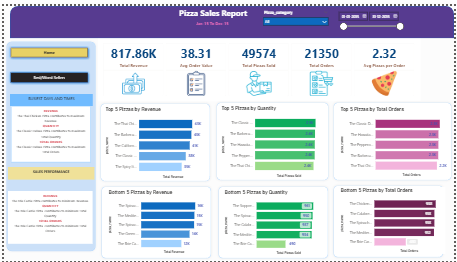

What the dashboard file says about the page in this screenshot:
{"tool":"powerbi","page":{"name":"Best/Worst Sellers","canvas":[1500,850],"ordinal":1},"visuals":[{"type":"cardVisual","fields":{"Data":["pizza_sales.Total Revenue","pizza_sales.Avg Order Value","pizza_sales.Total Pizzas Sold","pizza_sales.Total Orders","pizza_sales.Avg Pizzas per Order"]},"box":[314.8,107.4,1075.9,211.1],"z":0},{"type":"shape","box":[20,0,1480,107.5],"z":1000},{"type":"textbox","box":[559.3,0,274.1,66.7],"z":2000},{"type":"textbox","box":[590.7,44.4,209.3,44.4],"z":3000},{"type":"shape","box":[314,318,382,276],"z":4000},{"type":"shape","box":[0,110,314,716],"z":5000},{"type":"textbox","box":[24,334,266,188],"z":6000},{"type":"textbox","box":[20,294,276,40],"z":7000},{"type":"textbox","box":[14,538,288,42],"z":8000},{"type":"textbox","box":[14,616,282,176],"z":9000},{"type":"slicer","fields":{"Values":["pizza_sales.pizza_category"]},"box":[852,10,238,68],"z":10000},{"type":"slicer","fields":{"Values":["pizza_sales.order_date"]},"box":[1104,10,238,78],"z":11000},{"type":"shape","box":[700,314,390,276],"z":12000},{"type":"shape","box":[1090,314,410,276],"z":13000},{"type":"shape","box":[318,594,382,256],"z":14000},{"type":"shape","box":[708,594,382,256],"z":15000},{"type":"shape","box":[1090,590,382,256],"z":16000},{"type":"barChart","title":"Top 5 Pizzas by Revenue ","fields":{"Category":["pizza_sales.pizza_name"],"Y":["pizza_sales.Total Revenue"]},"box":[332,334,348,246],"z":17000},{"type":"barChart","title":"Bottom 5 Pizzas by Revenue ","fields":{"Category":["pizza_sales.pizza_name"],"Y":["pizza_sales.Total Revenue"]},"box":[342.5,611.2,337.5,221.2],"z":18000},{"type":"barChart","title":"Top 5 Pizzas by Quantity ","fields":{"Category":["pizza_sales.pizza_name"],"Y":["pizza_sales.Total Pizzas Sold"]},"box":[721.2,328.8,347.5,246.2],"z":19000},{"type":"barChart","title":"Bottom 5 Pizzas by Quantity ","fields":{"Category":["pizza_sales.pizza_name"],"Y":["pizza_sales.Total Pizzas Sold"]},"box":[730,608.8,330,223.8],"z":20000},{"type":"barChart","title":"Top 5 Pizzas by Total Orders ","fields":{"Category":["pizza_sales.pizza_name"],"Y":["pizza_sales.Total Orders"]},"box":[1115,333.8,366.2,241.2],"z":21000},{"type":"barChart","title":"Bottom 5 Pizzas by Total Orders","fields":{"Category":["pizza_sales.pizza_name"],"Y":["pizza_sales.Total Orders"]},"box":[1115,603.8,353.8,222.5],"z":22000},{"type":"pageNavigator","box":[14.3,131.4,275.7,50],"z":23000},{"type":"pageNavigator","box":[14.3,212.9,275.7,50],"z":24000}]}

Visuals, with their boxes in screenshot pixels (x1, y1, x2, y2), scaled from the page's 1500x850 canvas onto the 457x262 screenshot:
cardVisual - pizza_sales.Total Revenue x pizza_sales.Avg Order Value: [left=96, top=33, right=424, bottom=98]
shape: [left=6, top=0, right=456, bottom=33]
textbox: [left=170, top=0, right=254, bottom=21]
textbox: [left=180, top=14, right=244, bottom=27]
shape: [left=96, top=98, right=212, bottom=183]
shape: [left=0, top=34, right=96, bottom=255]
textbox: [left=7, top=103, right=88, bottom=161]
textbox: [left=6, top=91, right=90, bottom=103]
textbox: [left=4, top=166, right=92, bottom=179]
textbox: [left=4, top=190, right=90, bottom=244]
slicer - pizza_sales.pizza_category: [left=260, top=3, right=332, bottom=24]
slicer - pizza_sales.order_date: [left=336, top=3, right=409, bottom=27]
shape: [left=213, top=97, right=332, bottom=182]
shape: [left=332, top=97, right=456, bottom=182]
shape: [left=97, top=183, right=213, bottom=261]
shape: [left=216, top=183, right=332, bottom=261]
shape: [left=332, top=182, right=448, bottom=261]
"Top 5 Pizzas by Revenue " barChart: [left=101, top=103, right=207, bottom=179]
"Bottom 5 Pizzas by Revenue " barChart: [left=104, top=188, right=207, bottom=257]
"Top 5 Pizzas by Quantity " barChart: [left=220, top=101, right=326, bottom=177]
"Bottom 5 Pizzas by Quantity " barChart: [left=222, top=188, right=323, bottom=257]
"Top 5 Pizzas by Total Orders " barChart: [left=340, top=103, right=451, bottom=177]
"Bottom 5 Pizzas by Total Orders" barChart: [left=340, top=186, right=447, bottom=255]
pageNavigator: [left=4, top=41, right=88, bottom=56]
pageNavigator: [left=4, top=66, right=88, bottom=81]
